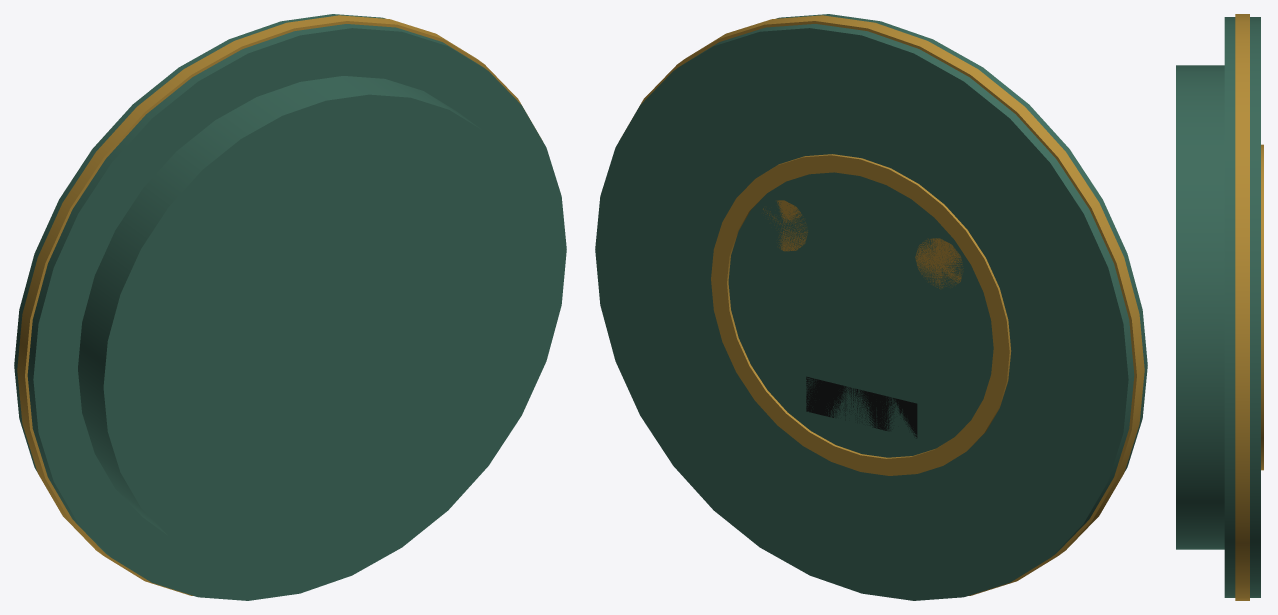
Rendered from h5_flange.obj.
3 views of the same model, side by side, from view 1: azimuth 30°, elevation 25°; view 2: azimuth 150°, elevation 25°; view 3: azimuth 270°, elevation 25° (orthographic). The views are drawn at different scales.
Visible parts, largest first — view 1: h5_flange; view 2: h5_flange; view 3: h5_flange.
Part boxes in pixels (x1,y1,x2,y2): h5_flange: [14, 14, 566, 600]; h5_flange: [595, 14, 1147, 600]; h5_flange: [1176, 14, 1263, 600].
Bounding box in the file's own units: 1.2 × 1.2 × 0.1794.
